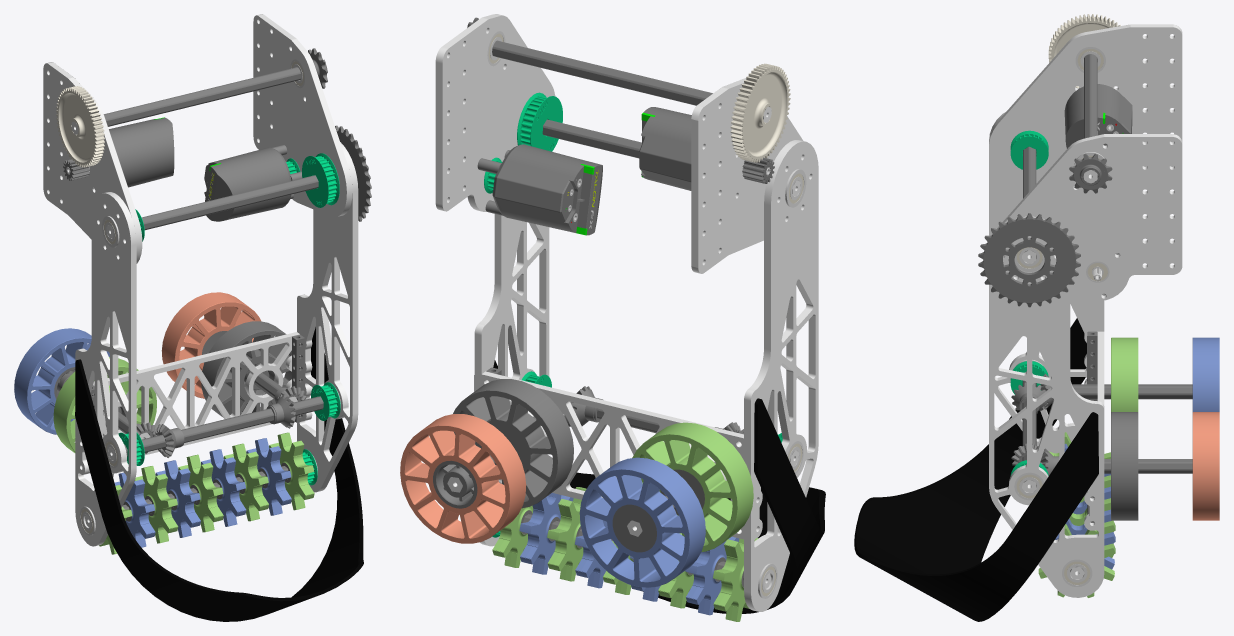
Rendered from Intake.fbx.
The picture shows the model from 3 angles, left to right: view 1: azimuth 30°, elevation 25°; view 2: azimuth 150°, elevation 25°; view 3: azimuth 270°, elevation 25°; orthographic projection. The views are drawn at different scales.
Visible parts, largest first — view 1: Poly Thing, Side Plate, Side Plate.001, Plate 1, Part 1, Plate 2, 4" Compliant Wheel (50A, 1" Wide, 1/2" Hex Bore), 4" Compliant Wheel (40A, 1" Wide, 1/2" Hex Bore), Kraken X60 Brushless Motor.001, Kraken X60 Brushless Motor, 4" Compliant Wheel (60A, 1" Wide, 1/2" Hex Bore), 60t Pocketed Aluminum Spur Gear (20 DP, 1/2" Hex Bore) (+18 smaller); view 2: Side Plate, Plate 1, 4" Compliant Wheel (50A, 1" Wide, 1/2" Hex Bore), 4" Compliant Wheel (40A, 1" Wide, 1/2" Hex Bore), Plate 2, Side Plate.001, Kraken X60 Brushless Motor.001, 4" Compliant Wheel (35A, 1" Wide, 1/2" Hex Bore), 4" Compliant Wheel (60A, 1" Wide, 1/2" Hex Bore), Poly Thing, Part 1, 60t Pocketed Aluminum Spur Gear (20 DP, 1/2" Hex Bore) (+12 smaller); view 3: Poly Thing, Plate 1, Side Plate.001, Plate 2, 30t Aluminum Plate Sprocket (#35, 1.125" Round Bore), Side Plate, 4" Compliant Wheel (40A, 1" Wide, 1/2" Hex Bore), 4" Compliant Wheel (60A, 1" Wide, 1/2" Hex Bore), Kraken X60 Brushless Motor, 4" Compliant Wheel (35A, 1" Wide, 1/2" Hex Bore), 4" Compliant Wheel (50A, 1" Wide, 1/2" Hex Bore), 1/2" Rounded Hex (6.47" L, 13.75mm OD).001 (+11 smaller).
Boxes of the visible parts, x1=… form: Poly Thing: x1=75, y1=327, x2=363, y2=621; Side Plate: x1=75, y1=192, x2=136, y2=546; Side Plate.001: x1=297, y1=142, x2=358, y2=492; Plate 1: x1=253, y1=14, x2=352, y2=217; Part 1: x1=93, y1=332, x2=299, y2=455; Plate 2: x1=43, y1=62, x2=142, y2=263; 4" Compliant Wheel (50A, 1" Wide, 1/2" Hex Bore): x1=14, y1=328, x2=109, y2=434; 4" Compliant Wheel (40A, 1" Wide, 1/2" Hex Bore): x1=161, y1=292, x2=260, y2=398; Kraken X60 Brushless Motor.001: x1=204, y1=147, x2=291, y2=221; Kraken X60 Brushless Motor: x1=67, y1=117, x2=174, y2=187; 4" Compliant Wheel (60A, 1" Wide, 1/2" Hex Bore): x1=201, y1=321, x2=291, y2=417; 60t Pocketed Aluminum Spur Gear (20 DP, 1/2" Hex Bore): x1=56, y1=86, x2=104, y2=167; Side Plate: x1=744, y1=140, x2=818, y2=611; Plate 1: x1=435, y1=14, x2=555, y2=211; 4" Compliant Wheel (50A, 1" Wide, 1/2" Hex Bore): x1=579, y1=457, x2=705, y2=587; 4" Compliant Wheel (40A, 1" Wide, 1/2" Hex Bore): x1=400, y1=414, x2=526, y2=543; Plate 2: x1=691, y1=78, x2=803, y2=273; Side Plate.001: x1=474, y1=214, x2=549, y2=546; Kraken X60 Brushless Motor.001: x1=492, y1=144, x2=602, y2=235; 4" Compliant Wheel (35A, 1" Wide, 1/2" Hex Bore): x1=632, y1=422, x2=753, y2=551; 4" Compliant Wheel (60A, 1" Wide, 1/2" Hex Bore): x1=453, y1=379, x2=573, y2=508; Poly Thing: x1=474, y1=360, x2=825, y2=613; Part 1: x1=481, y1=371, x2=743, y2=539; 60t Pocketed Aluminum Spur Gear (20 DP, 1/2" Hex Bore): x1=730, y1=63, x2=790, y2=162; Poly Thing: x1=854, y1=318, x2=1098, y2=621; Plate 1: x1=997, y1=134, x2=1182, y2=301; Side Plate.001: x1=989, y1=216, x2=1104, y2=597; Plate 2: x1=989, y1=24, x2=1182, y2=183; 30t Aluminum Plate Sprocket (#35, 1.125" Round Bore): x1=978, y1=213, x2=1080, y2=307; Side Plate: x1=989, y1=111, x2=1104, y2=453; 4" Compliant Wheel (40A, 1" Wide, 1/2" Hex Bore): x1=1192, y1=412, x2=1219, y2=520; 4" Compliant Wheel (60A, 1" Wide, 1/2" Hex Bore): x1=1111, y1=412, x2=1138, y2=520; Kraken X60 Brushless Motor: x1=1064, y1=84, x2=1132, y2=148; 4" Compliant Wheel (35A, 1" Wide, 1/2" Hex Bore): x1=1111, y1=337, x2=1138, y2=411; 4" Compliant Wheel (50A, 1" Wide, 1/2" Hex Bore): x1=1192, y1=337, x2=1219, y2=411; 1/2" Rounded Hex (6.47" L, 13.75mm OD).001: x1=1072, y1=384, x2=1192, y2=399.
Bounding box in the file's own units: 28.12 × 54.97 × 34.19.
